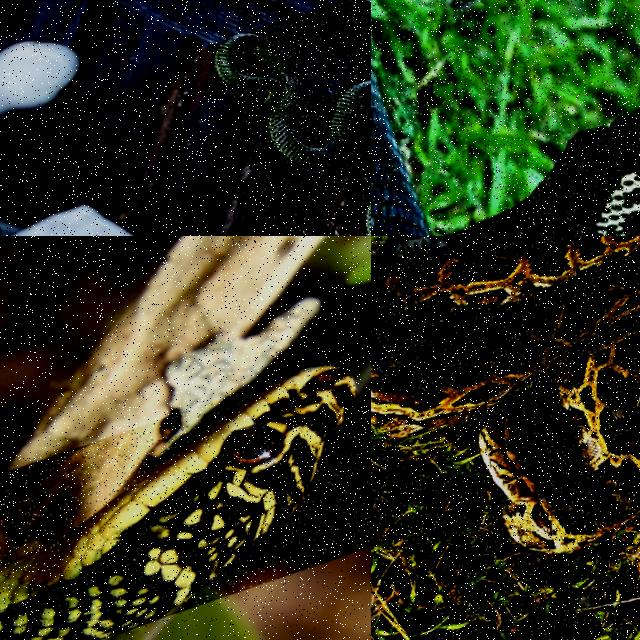Chrysopelea ornata: (0, 366, 355, 639), (212, 33, 370, 165)
Naja kaouthia: (451, 115, 639, 235)
Python bivittatus: (371, 236, 639, 553)
